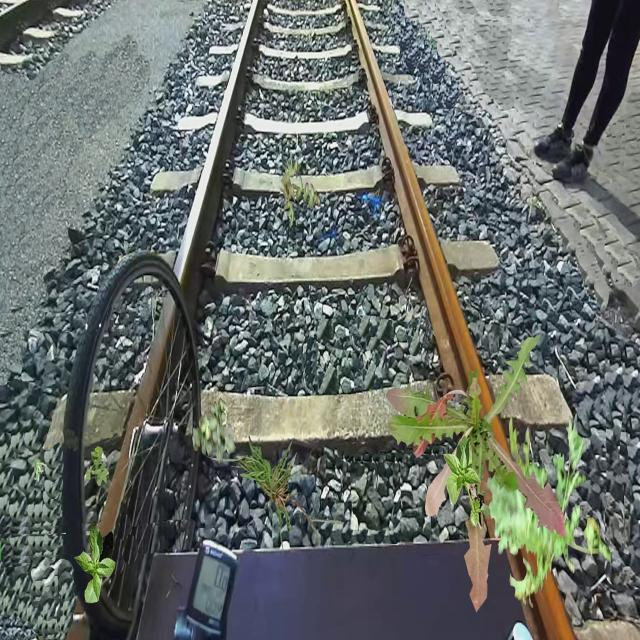Plant: (386, 335, 566, 613), (487, 413, 612, 609), (201, 435, 344, 554), (443, 435, 491, 530), (74, 524, 116, 604), (280, 157, 322, 228), (192, 398, 236, 464), (86, 446, 110, 487), (33, 462, 47, 482)
